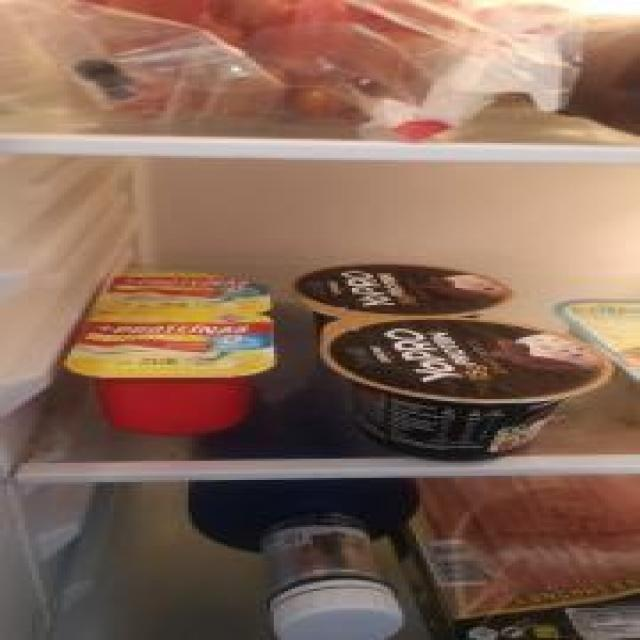cheese: (318, 314, 614, 466)
yogurt: (55, 312, 279, 438)
